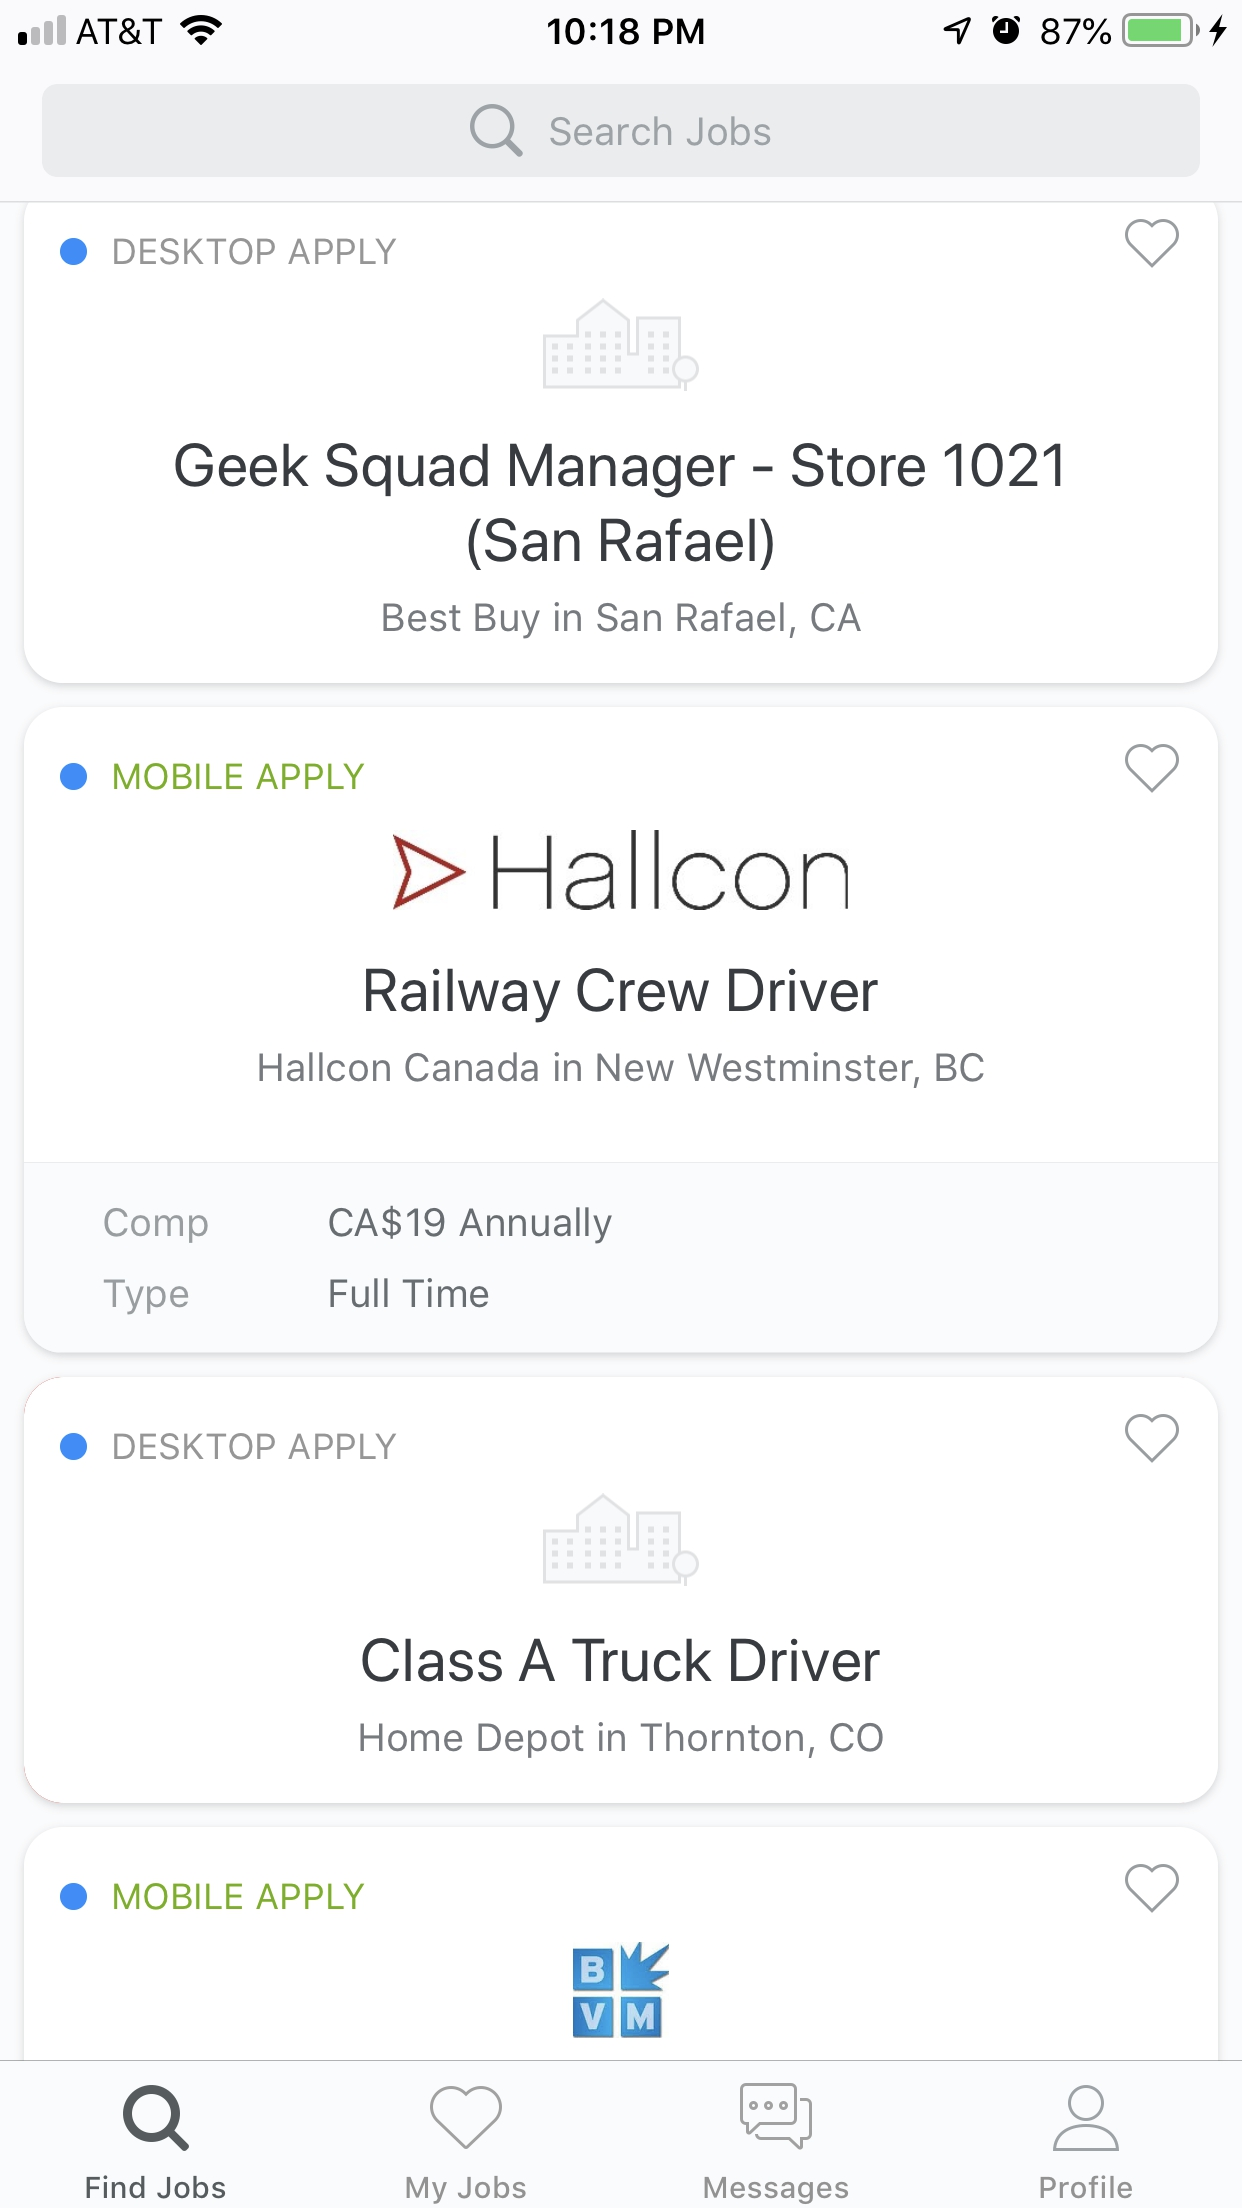EditText: (42, 85, 1200, 179)
Icon: (393, 833, 469, 911), (740, 2082, 814, 2150), (1052, 2085, 1121, 2153), (431, 2085, 503, 2149), (123, 2085, 190, 2150), (469, 105, 525, 158), (1124, 1862, 1180, 1914), (1124, 743, 1180, 795), (1124, 218, 1180, 270), (1124, 1413, 1180, 1463)
Image: (541, 1492, 701, 1586), (543, 299, 701, 393), (572, 1941, 670, 2040)
Text: (174, 441, 1062, 572), (493, 830, 851, 911), (365, 968, 880, 1024), (258, 1051, 986, 1089), (362, 1636, 883, 1683), (359, 1721, 884, 1759), (384, 601, 863, 640), (329, 1206, 614, 1245), (114, 1432, 397, 1460), (114, 238, 397, 265), (114, 761, 364, 792), (114, 1882, 364, 1911), (550, 117, 770, 149), (331, 1277, 490, 1309), (704, 2176, 851, 2205), (105, 1207, 209, 1244), (86, 2175, 227, 2200), (406, 2175, 528, 2203), (105, 1278, 190, 1316), (1040, 2175, 1133, 2199)
UpperTaskBar: (2, 2, 1242, 49)
